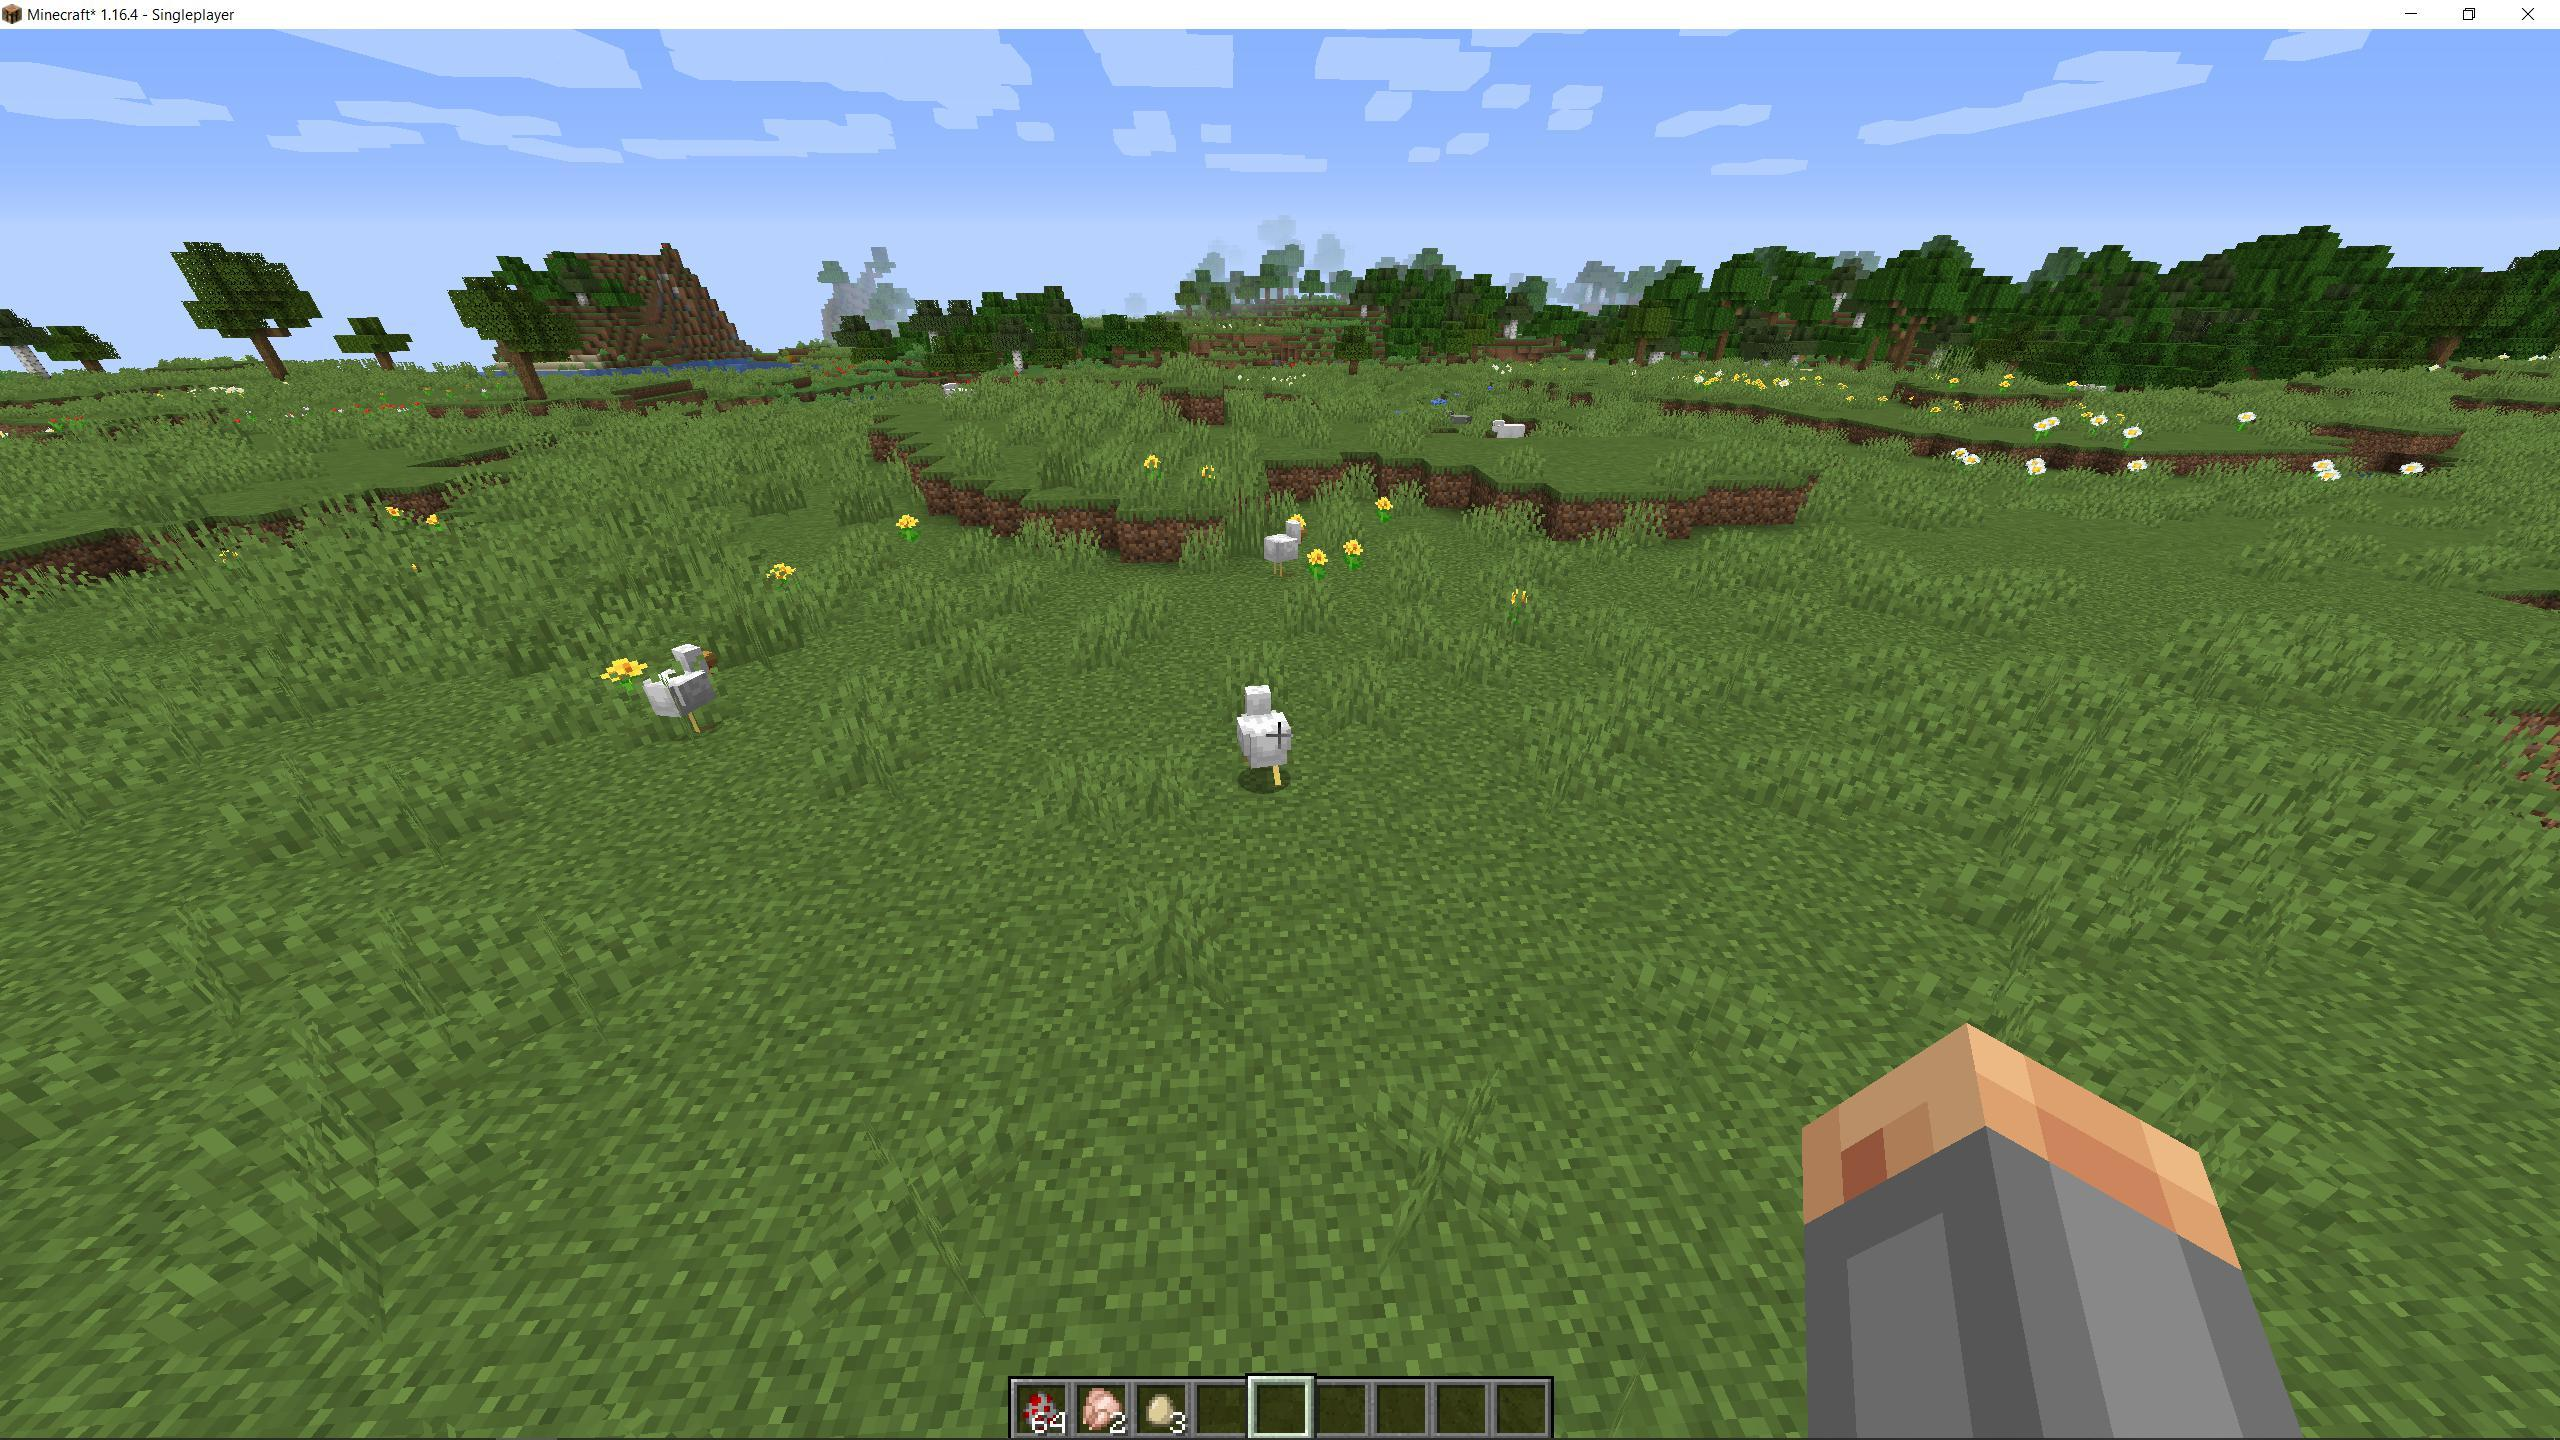chicken: (638, 638, 737, 745), (1225, 680, 1298, 795), (1262, 510, 1312, 584)
